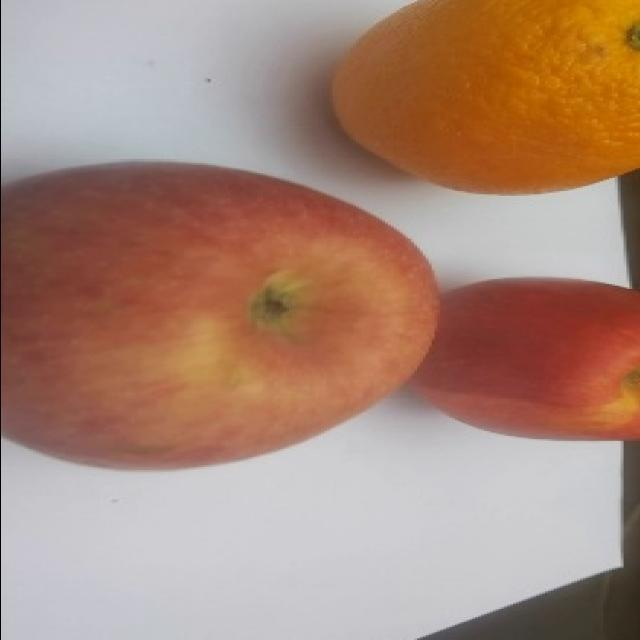Apple: (0, 157, 449, 475), (409, 272, 640, 446)
Orange: (331, 0, 640, 194)
